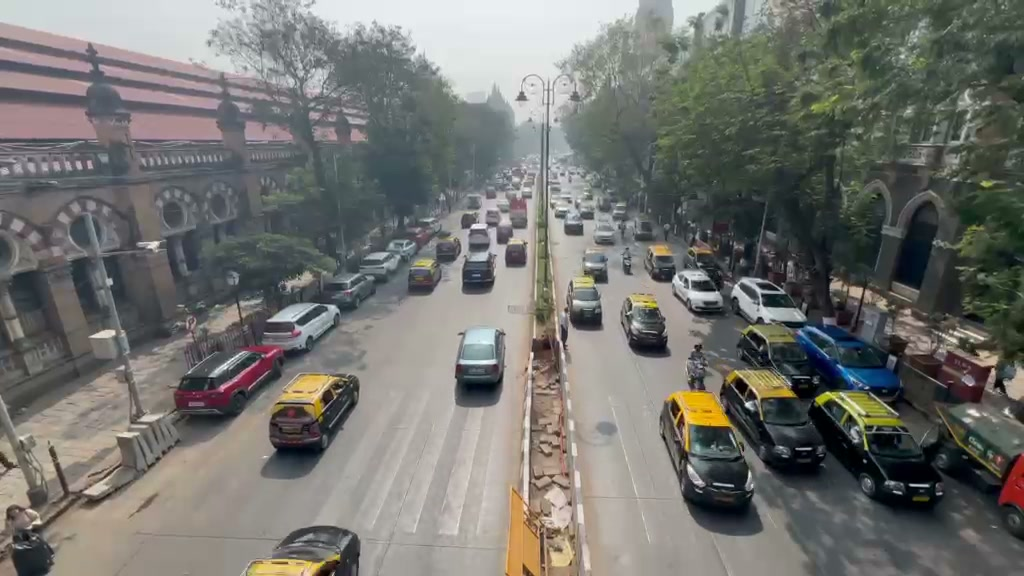car: (658, 389, 755, 513), (721, 368, 827, 473), (795, 322, 905, 403), (172, 345, 285, 417), (267, 372, 361, 451), (735, 324, 820, 397), (241, 525, 361, 576), (261, 302, 341, 354), (732, 277, 809, 327), (454, 325, 506, 389), (619, 292, 669, 351), (671, 268, 725, 316), (996, 449, 1024, 539), (316, 270, 376, 310), (567, 280, 603, 328), (358, 251, 403, 283), (461, 253, 497, 292), (407, 255, 442, 293), (582, 251, 610, 283), (434, 235, 461, 263), (386, 239, 417, 261)
truck: (809, 388, 946, 507), (933, 400, 1023, 489)
